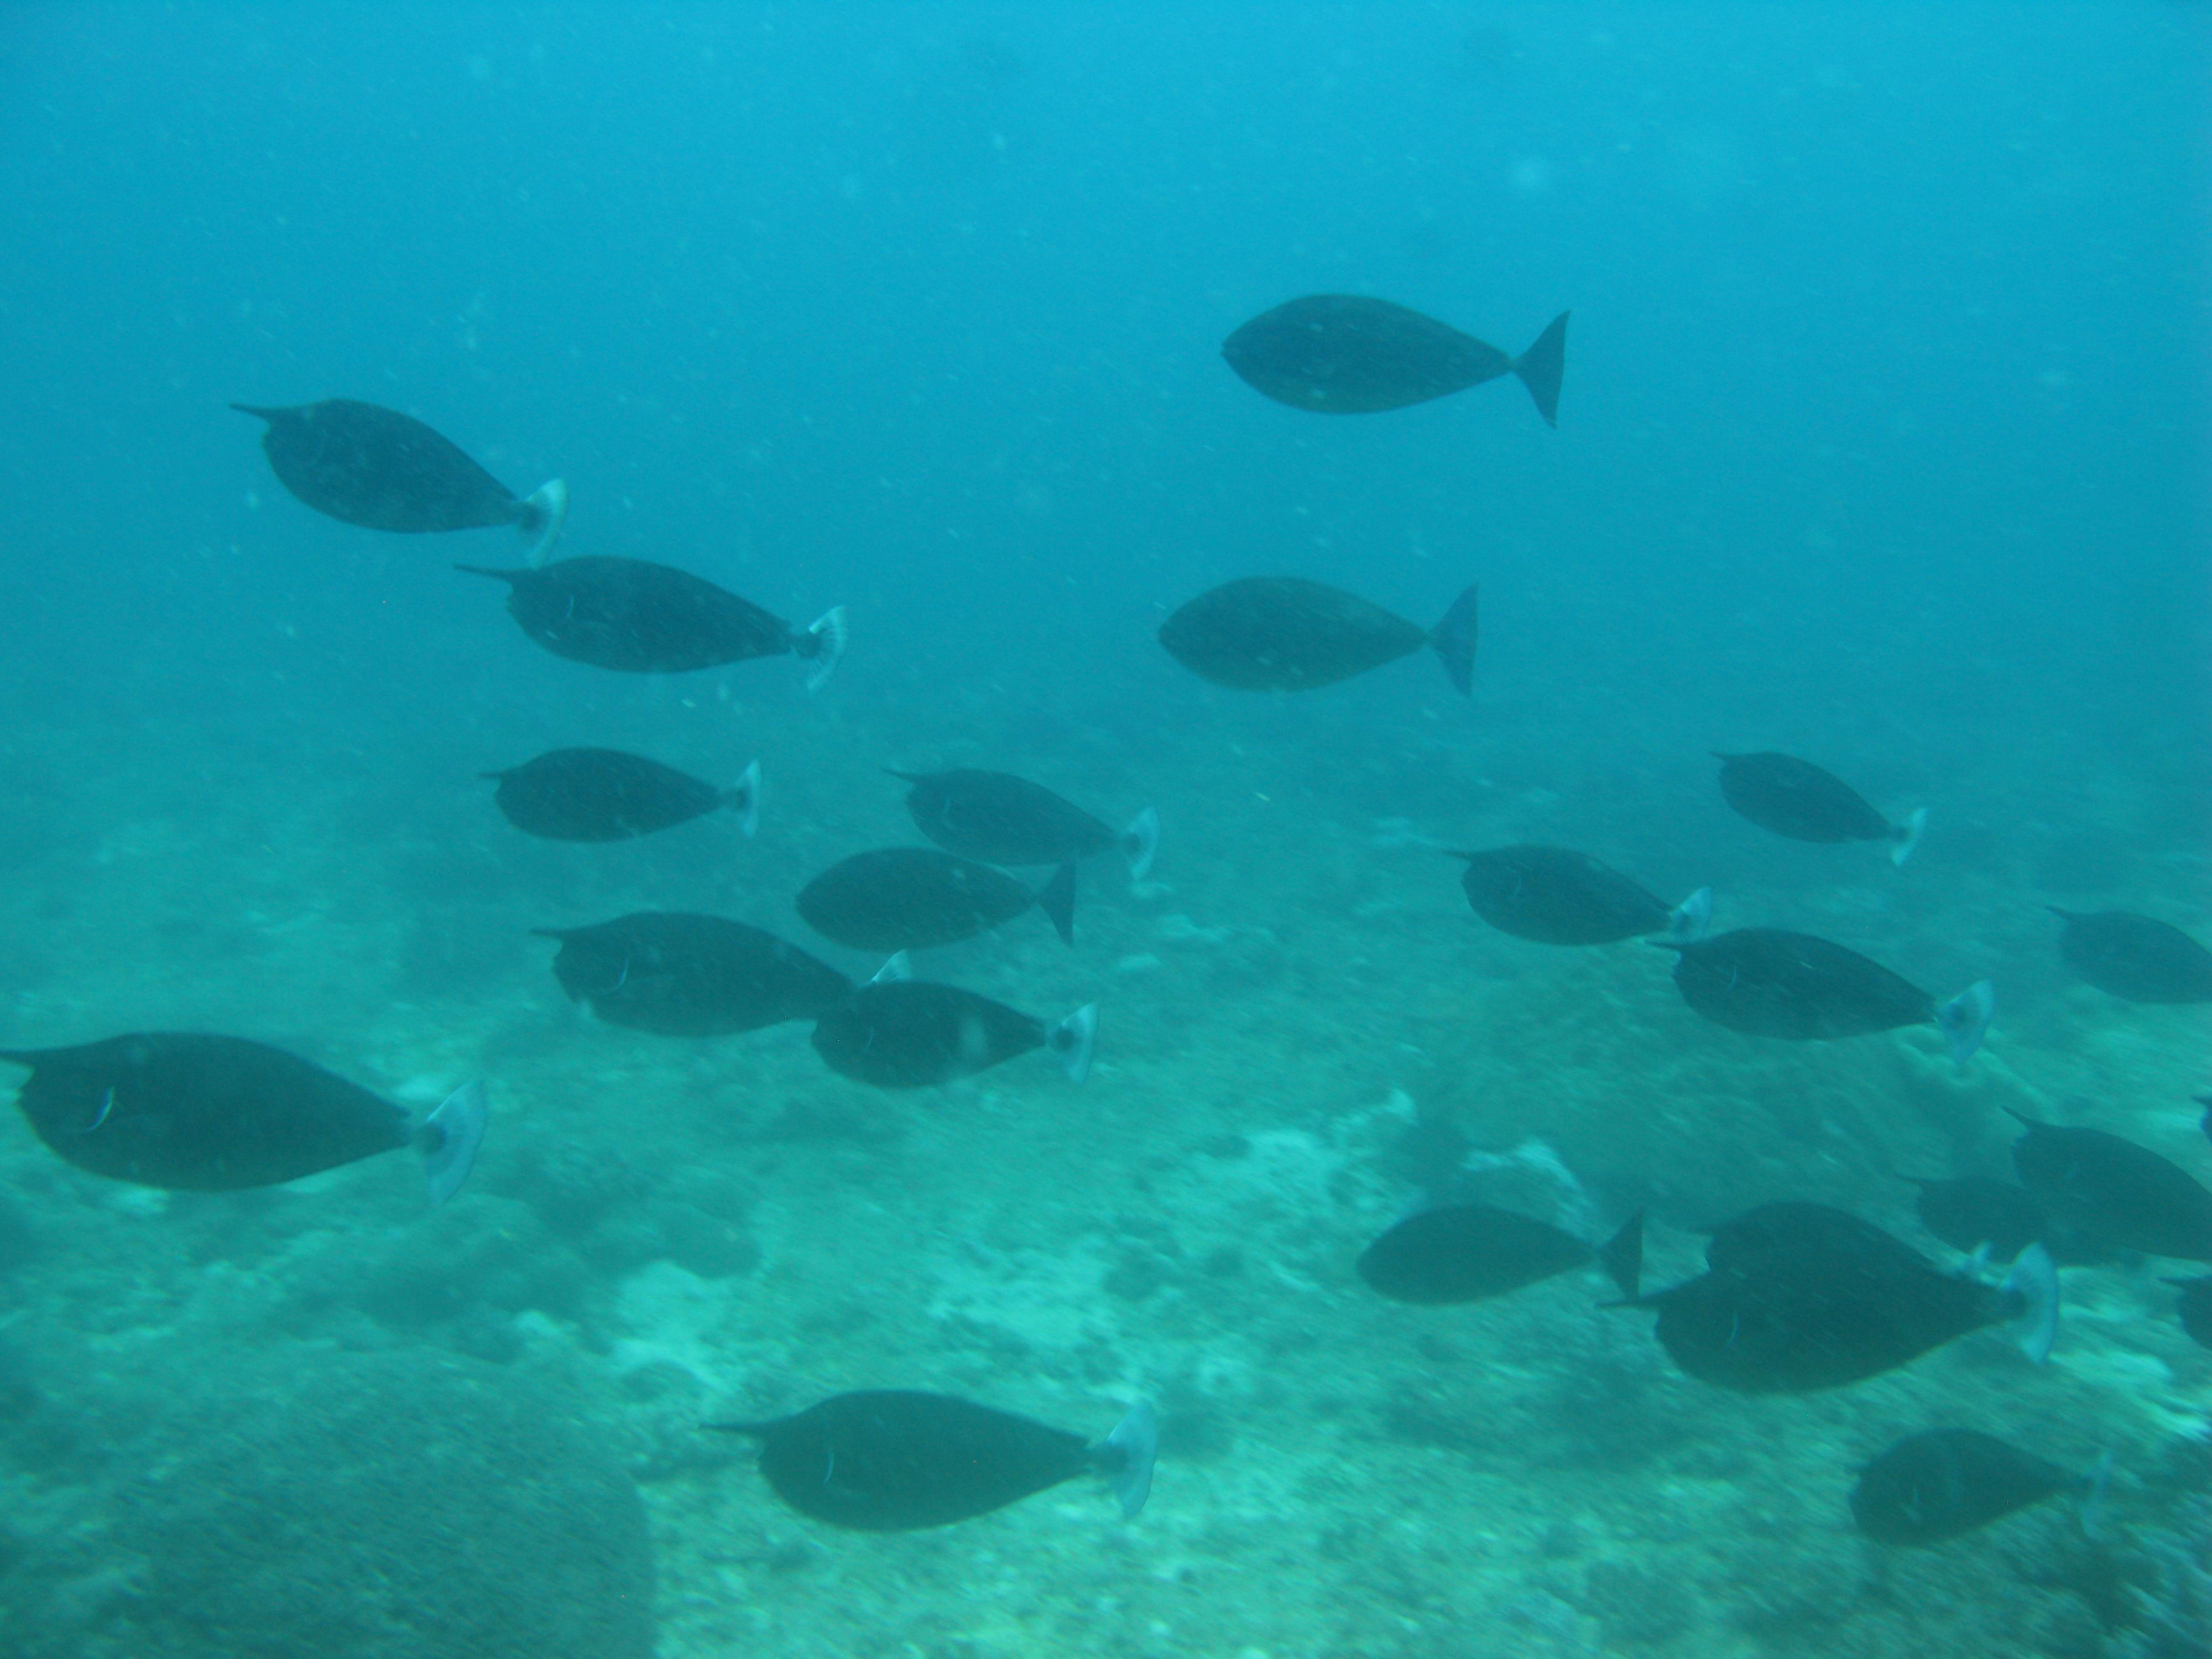Naso brevicordatus: (5, 1000, 570, 1291), (691, 1283, 1214, 1596), (1571, 1182, 2114, 1452), (185, 315, 669, 566), (467, 542, 881, 720), (514, 880, 871, 1079), (1634, 906, 2024, 1087), (432, 708, 787, 868), (1681, 702, 1977, 887), (1440, 805, 1737, 971)
